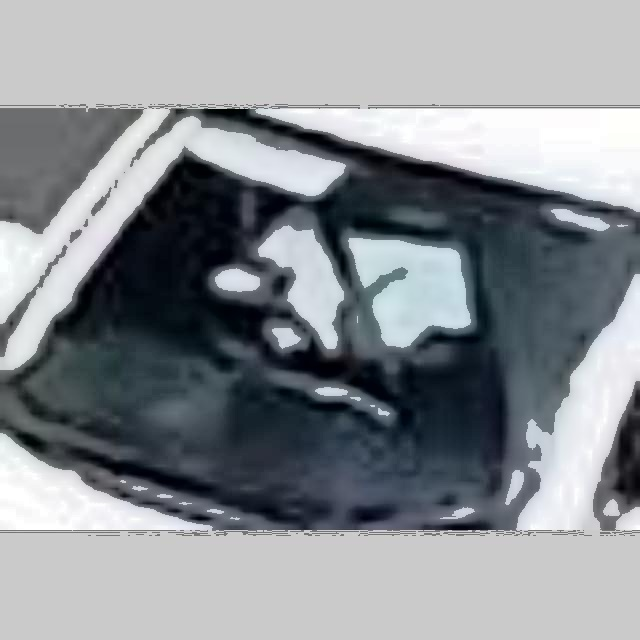pakai: (203, 192, 467, 418)
